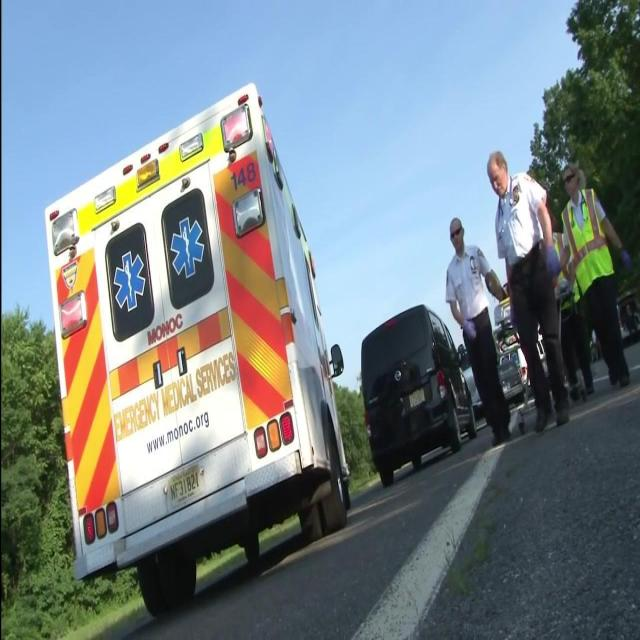Vest: (558, 187, 614, 303)
